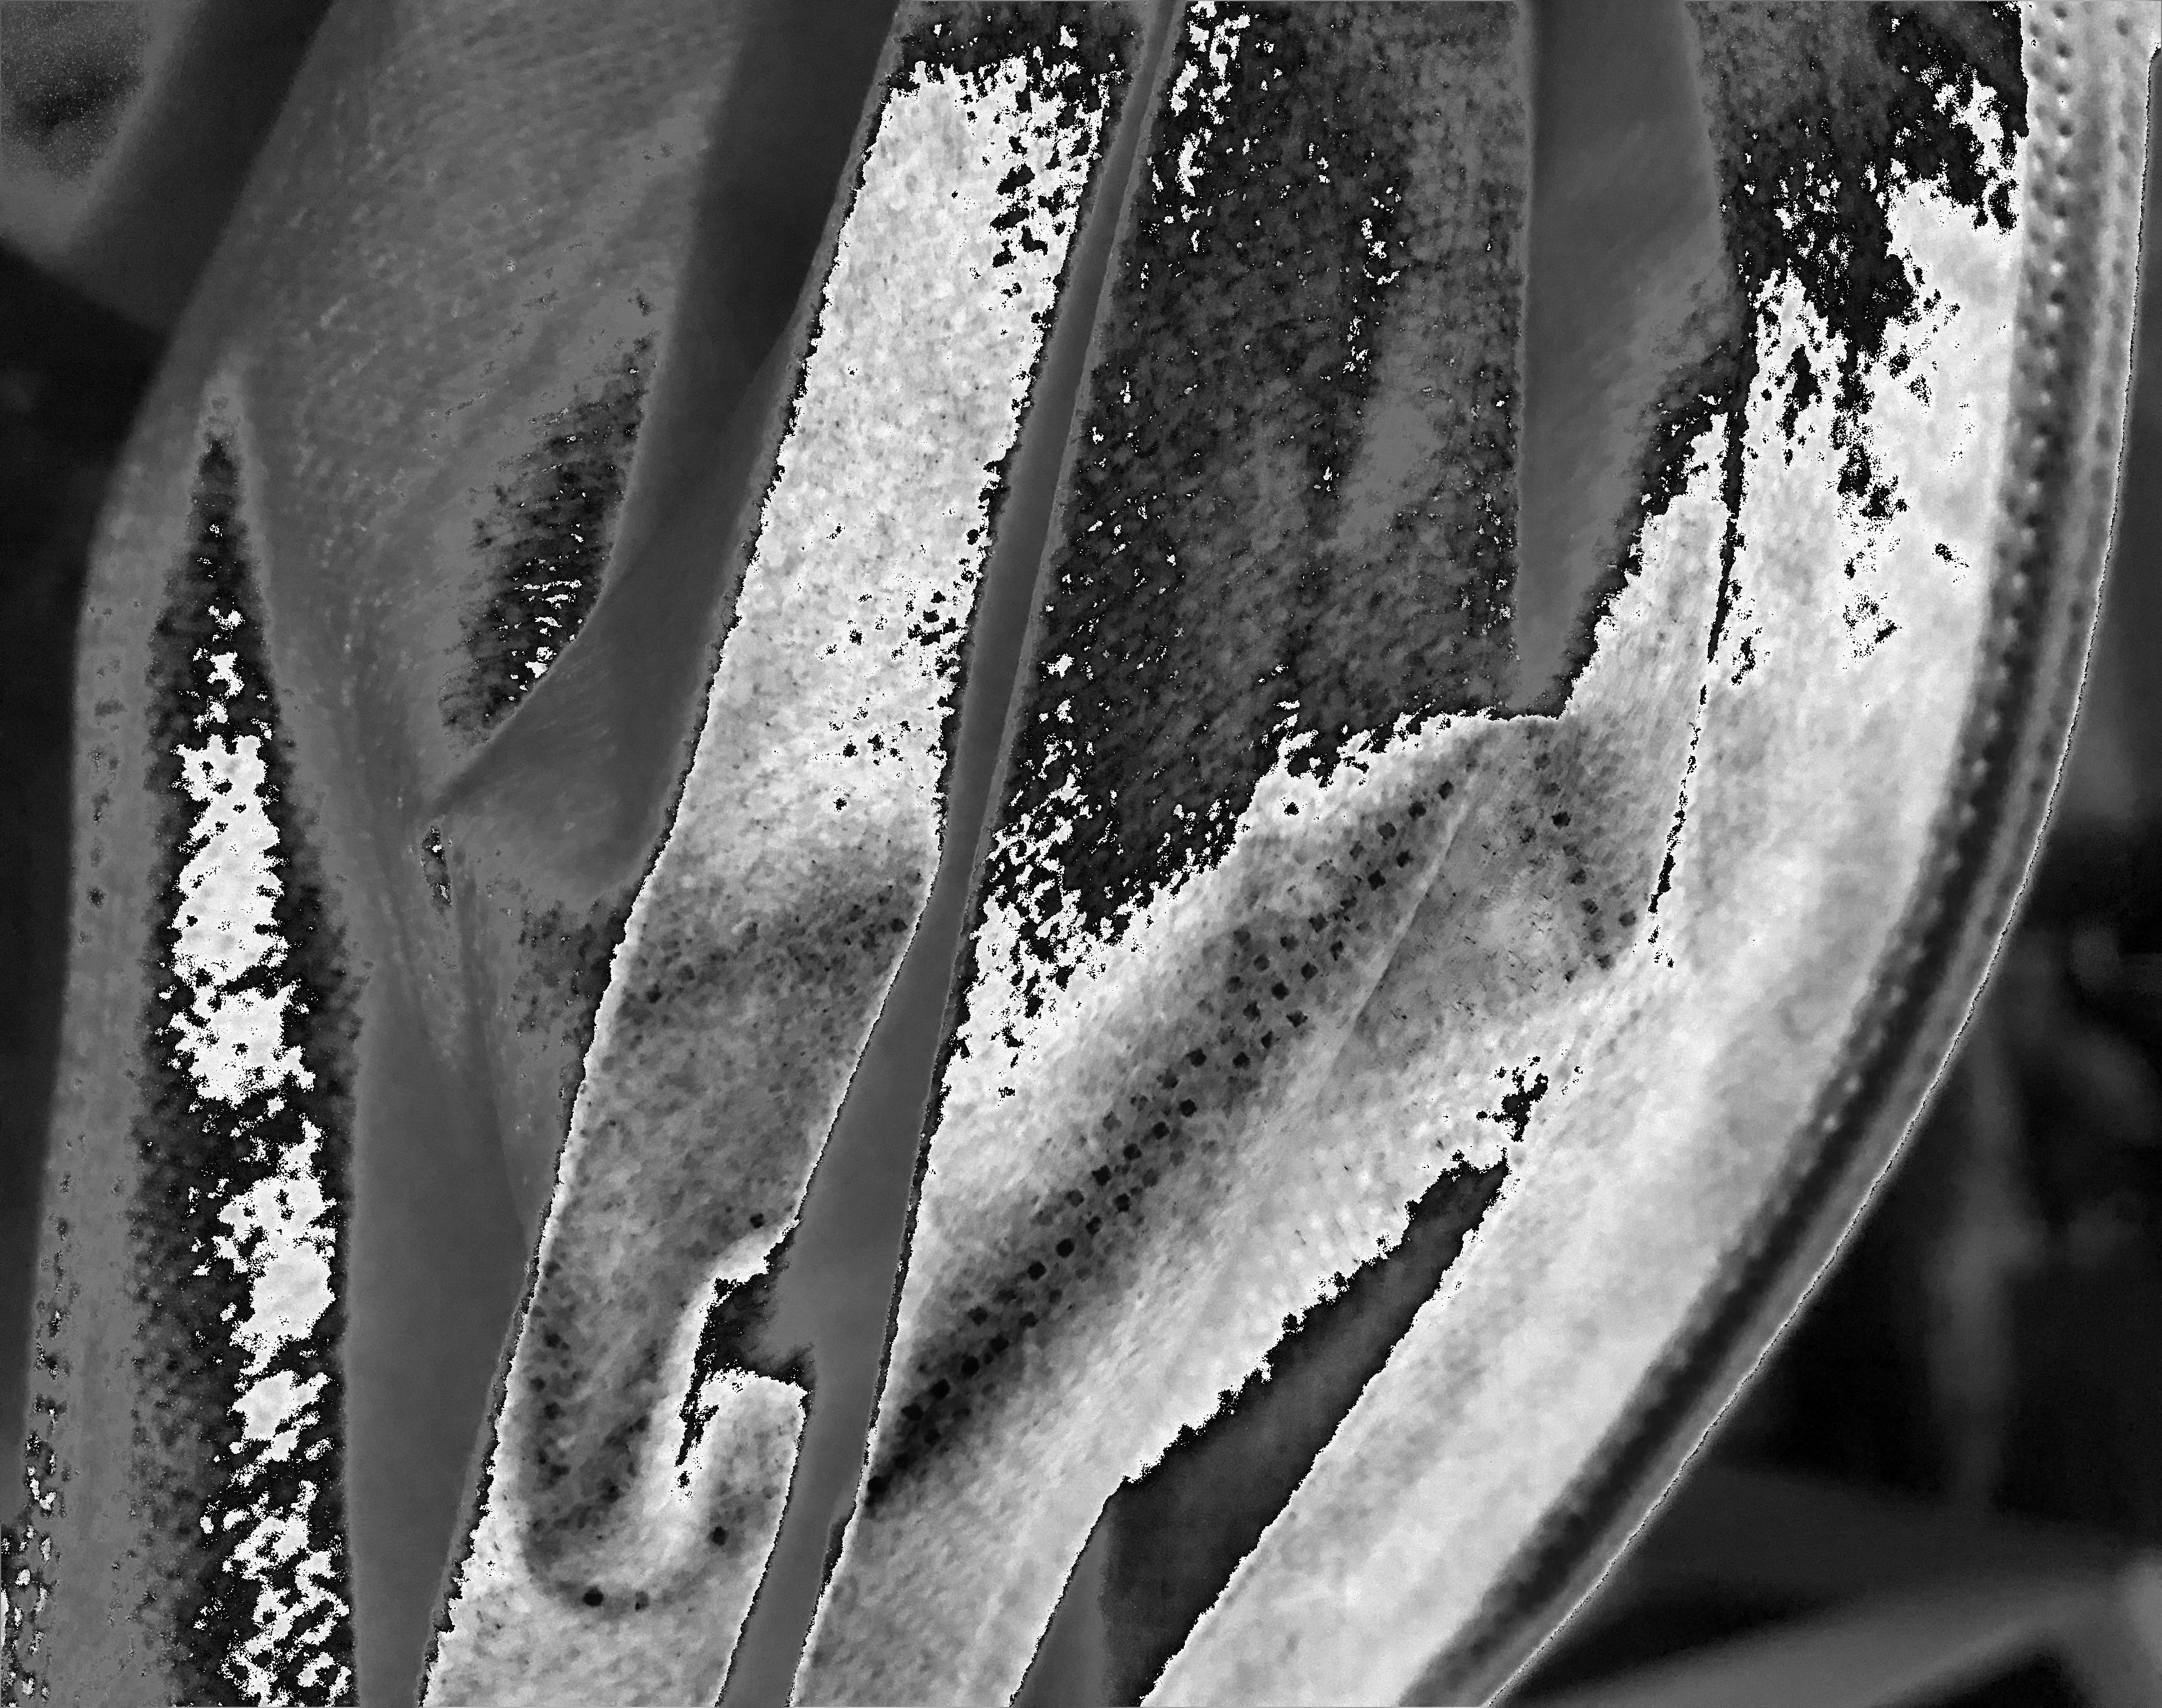High GSM: (928, 488, 1497, 1232), (1579, 125, 1999, 739)
Undefined Area: (54, 9, 604, 827)
